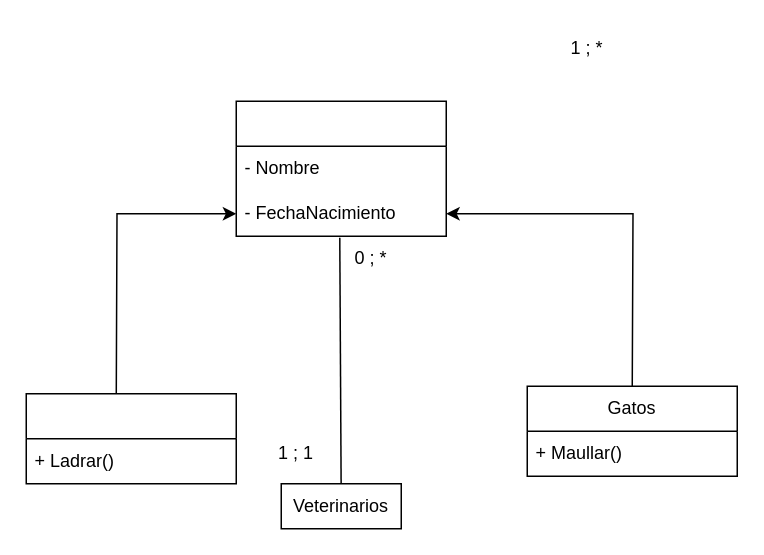
Image size: 764x555. Some labels were removed from this diagram. Here are the shapes that lost their labels. From the top down, the box of each, then its label:
(235, 100, 446, 236): Animales
(25, 392, 236, 484): Perros
